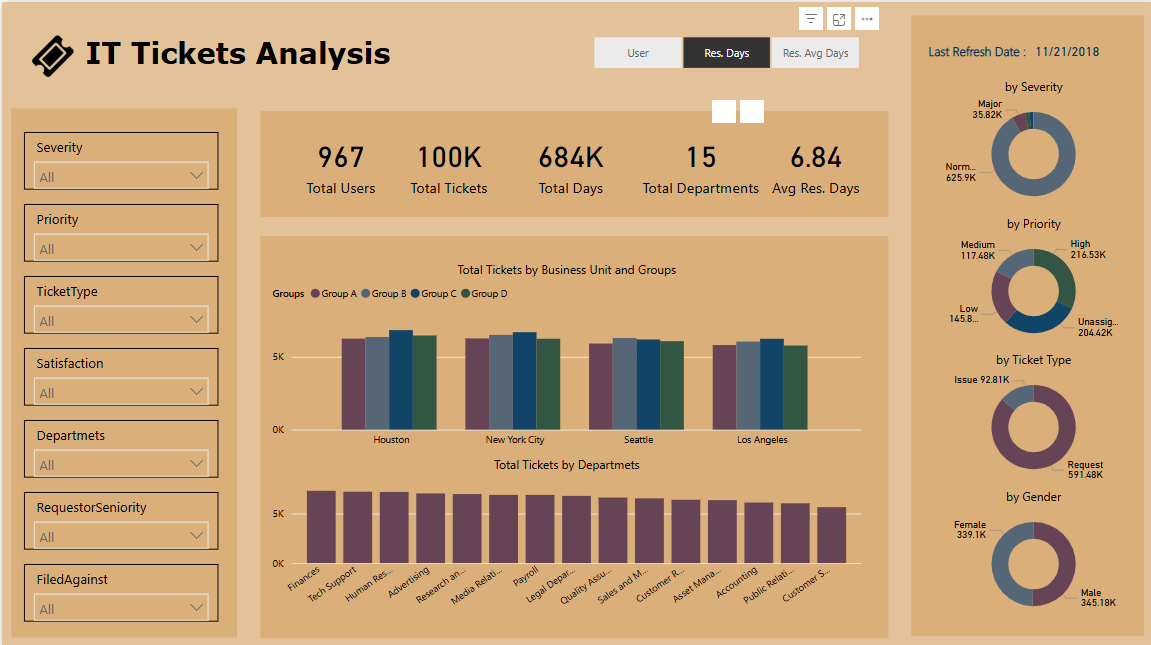

The page's visual inventory and layout, read from the dashboard file:
{"tool":"powerbi","page":{"name":"Page 1","canvas":[1280,720],"ordinal":0},"visuals":[{"type":"image","box":[20.2,21,60.3,60.3],"z":0},{"type":"donutChart","title":"by Severity","fields":{"Y":["aMeasures.Selected Value"],"Category":["IT-Help-Desk.Severity"]},"box":[1005.2,81.3,267,150],"z":0,"group":"g4"},{"type":"shape","box":[7.7,107.9,217.4,602.3],"z":0,"group":"g3"},{"type":"shape","box":[242.1,108.1,746.5,120.9],"z":0,"group":"g1"},{"type":"shape","box":[240.7,243,747.7,468.6],"z":0,"group":"g2"},{"type":"shape","box":[1004.7,10.5,267,700],"z":1000},{"type":"card","fields":{"Values":["aMeasures.Total Users"]},"box":[251.4,115.1,134.9,97.7],"z":1000,"group":"g1"},{"type":"slicer","fields":{"Values":["IT-Help-Desk.Severity"]},"box":[33,126.4,169.1,68.3],"z":1000,"group":"g3"},{"type":"donutChart","title":"by Priority","fields":{"Y":["aMeasures.Selected Value"],"Category":["IT-Help-Desk.Priority"]},"box":[1009.3,227.9,260.8,164],"z":1000,"group":"g4"},{"type":"clusteredColumnChart","fields":{"Y":["aMeasures.Total Tickets"],"Category":["IT-Help-Desk.Business Unit"],"Series":["IT-Help-Desk.Groups"]},"box":[251.5,251.1,729.1,209.3],"z":1000,"group":"g2"},{"type":"textbox","box":[85.4,19,392.7,66.4],"z":2000},{"type":"card","fields":{"Values":["aMeasures.Total Tickets"]},"box":[379.3,113.9,134.9,97.7],"z":2000,"group":"g1"},{"type":"slicer","fields":{"Values":["IT-Help-Desk.Priority"]},"box":[33,208.3,169.1,68.3],"z":2000,"group":"g3"},{"type":"donutChart","title":"by Ticket Type","fields":{"Y":["aMeasures.Selected Value"],"Category":["IT-Help-Desk.TicketType"]},"box":[1023.2,388.4,223.9,167.5],"z":2000,"group":"g4"},{"type":"clusteredColumnChart","fields":{"Category":["IT-Help-Desk.Departmets"],"Y":["aMeasures.Total Tickets"]},"box":[251.5,472,729.1,219.8],"z":2000,"group":"g2"},{"type":"slicer","fields":{"Values":["Metrics.Measure"]},"box":[555.8,30.2,384.9,54.7],"z":3000},{"type":"card","fields":{"Values":["aMeasures.Total Days"]},"box":[517.7,112.8,134.9,97.7],"z":3000,"group":"g1"},{"type":"slicer","fields":{"Values":["IT-Help-Desk.TicketType"]},"box":[33,290.3,169.1,68.3],"z":3000,"group":"g3"},{"type":"donutChart","title":"by Gender","fields":{"Y":["aMeasures.Selected Value"],"Category":["IT-Help-Desk.Gender"]},"box":[1004.7,553.5,264.5,153.5],"z":3000,"group":"g4"},{"type":"card","title":"Last Refresh Date:","fields":{"Values":["aMeasures.Last Refresh"]},"box":[1004.7,16.3,263.3,65.1],"z":4000,"group":"g4"},{"type":"group","id":"g1","title":"Card Group","box":[242.1,108.1,746.5,120.9],"z":4000},{"type":"card","fields":{"Values":["aMeasures.Total Departments"]},"box":[649.1,112.8,179.1,97.7],"z":4000,"group":"g1"},{"type":"slicer","fields":{"Values":["IT-Help-Desk.Satisfaction"]},"box":[33,372.2,169.1,68.3],"z":4000,"group":"g3"},{"type":"card","fields":{"Values":["aMeasures.Avg Res Days"]},"box":[838.6,111.6,136,97.7],"z":5000,"group":"g1"},{"type":"group","id":"g2","title":"Bar Group","box":[240.7,243,747.7,468.6],"z":5000},{"type":"slicer","fields":{"Values":["IT-Help-Desk.Departmets"]},"box":[33,456.9,169.1,68.3],"z":5000,"group":"g3"},{"type":"group","id":"g3","title":"Slicer Group","box":[7.7,107.9,217.4,602.3],"z":6000},{"type":"slicer","fields":{"Values":["IT-Help-Desk.RequestorSeniority"]},"box":[33,541.6,169.1,68.3],"z":6000,"group":"g3"},{"type":"group","id":"g4","title":"Donut Group","box":[1004.7,16.3,267.4,690.7],"z":7000},{"type":"slicer","fields":{"Values":["IT-Help-Desk.FiledAgainst"]},"box":[33,624.9,169.1,66.9],"z":7000,"group":"g3"}]}

Visuals, with their boxes in screenshot pixels (x1, y1, x2, y2), scaled from the page's 1280x720 canvas onto the 1151x645 screenshot:
image: crop(18, 19, 72, 73)
"by Severity" donutChart: crop(904, 73, 1144, 207)
shape: crop(7, 97, 202, 636)
shape: crop(218, 97, 889, 205)
shape: crop(216, 218, 889, 637)
shape: crop(903, 9, 1144, 636)
card - aMeasures.Total Users: crop(226, 103, 347, 191)
slicer - IT-Help-Desk.Severity: crop(30, 113, 182, 174)
"by Priority" donutChart: crop(908, 204, 1142, 351)
clusteredColumnChart - aMeasures.Total Tickets x IT-Help-Desk.Business Unit: crop(226, 225, 882, 412)
textbox: crop(77, 17, 430, 77)
card - aMeasures.Total Tickets: crop(341, 102, 462, 190)
slicer - IT-Help-Desk.Priority: crop(30, 187, 182, 248)
"by Ticket Type" donutChart: crop(920, 348, 1121, 498)
clusteredColumnChart - IT-Help-Desk.Departmets x aMeasures.Total Tickets: crop(226, 423, 882, 620)
slicer - Metrics.Measure: crop(500, 27, 846, 76)
card - aMeasures.Total Days: crop(466, 101, 587, 189)
slicer - IT-Help-Desk.TicketType: crop(30, 260, 182, 321)
"by Gender" donutChart: crop(903, 496, 1141, 633)
"Last Refresh Date:" card: crop(903, 15, 1140, 73)
"Card Group" group: crop(218, 97, 889, 205)
card - aMeasures.Total Departments: crop(584, 101, 745, 189)
slicer - IT-Help-Desk.Satisfaction: crop(30, 333, 182, 395)
card - aMeasures.Avg Res Days: crop(754, 100, 876, 187)
"Bar Group" group: crop(216, 218, 889, 637)
slicer - IT-Help-Desk.Departmets: crop(30, 409, 182, 470)
"Slicer Group" group: crop(7, 97, 202, 636)
slicer - IT-Help-Desk.RequestorSeniority: crop(30, 485, 182, 546)
"Donut Group" group: crop(903, 15, 1144, 633)
slicer - IT-Help-Desk.FiledAgainst: crop(30, 560, 182, 620)
